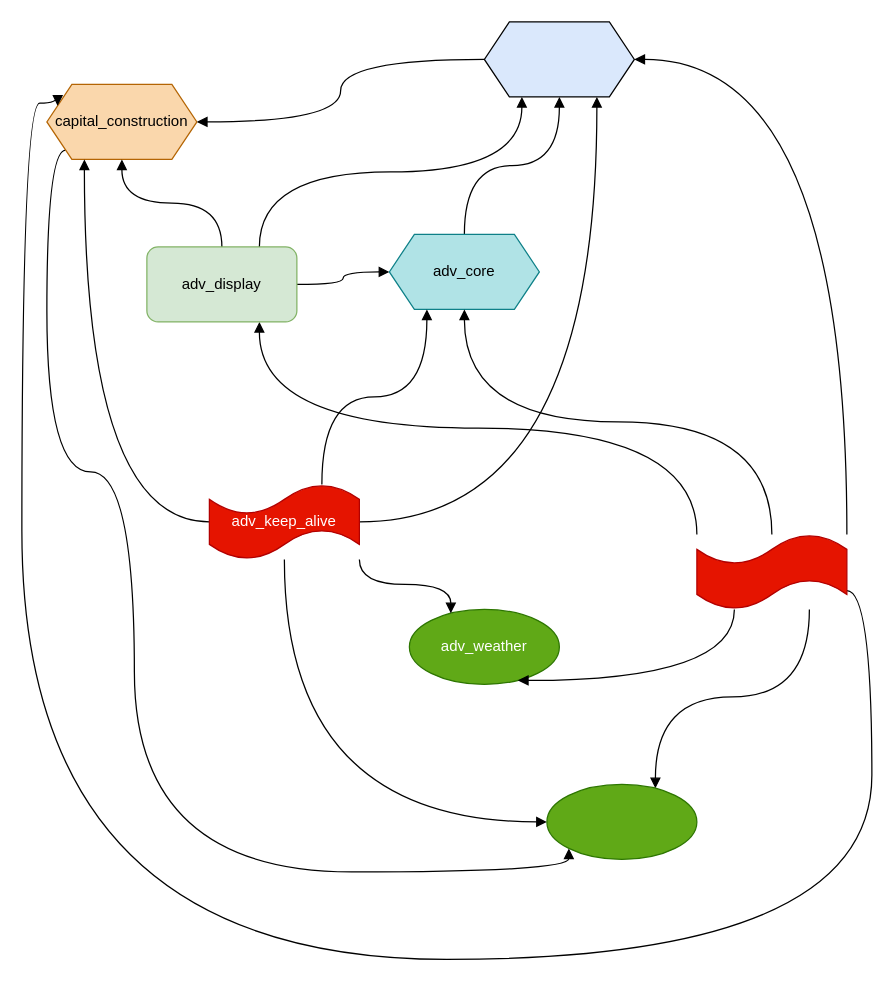
The diagram is 894 pixels wide and 983 high, and some of its shapes have lost their labels. The centre of each missing label's shape, as x and y in pixels:
adv_common: the point at 558,59
adv_network: the point at 621,821
adv_scene: the point at 771,571
